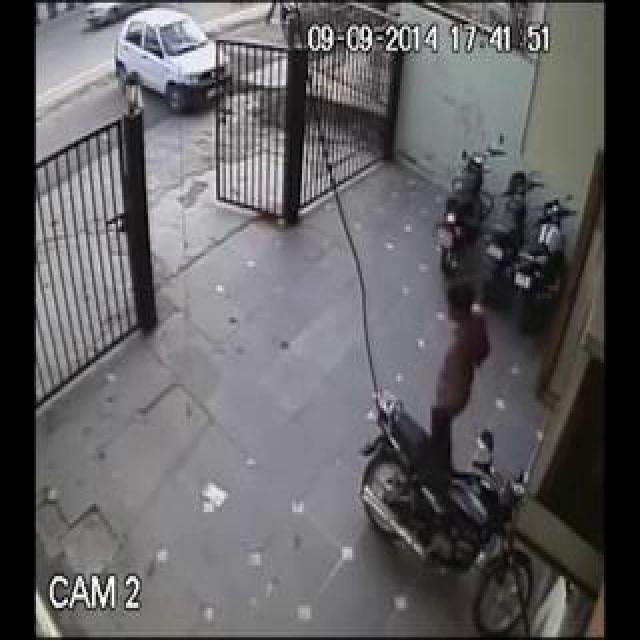stealing: (283, 166, 545, 600)
